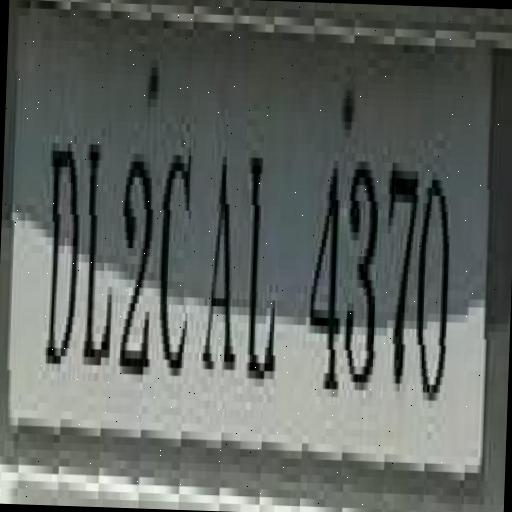number plate: (0, 0, 493, 504)
